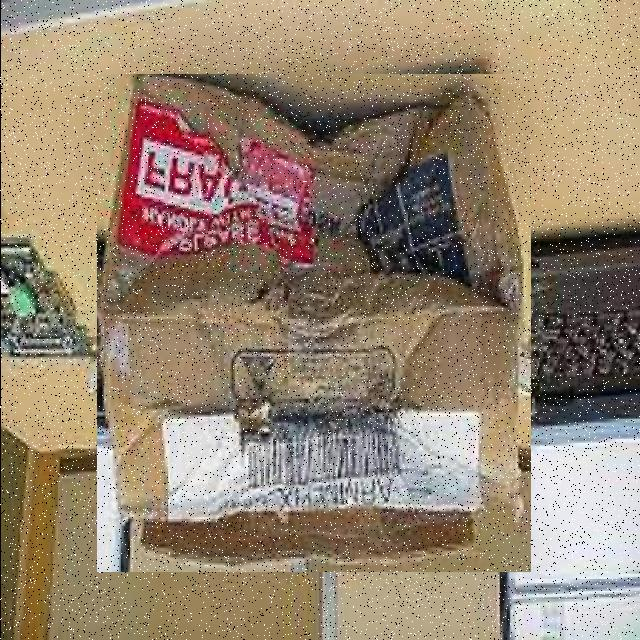defect: (96, 74, 530, 572)
